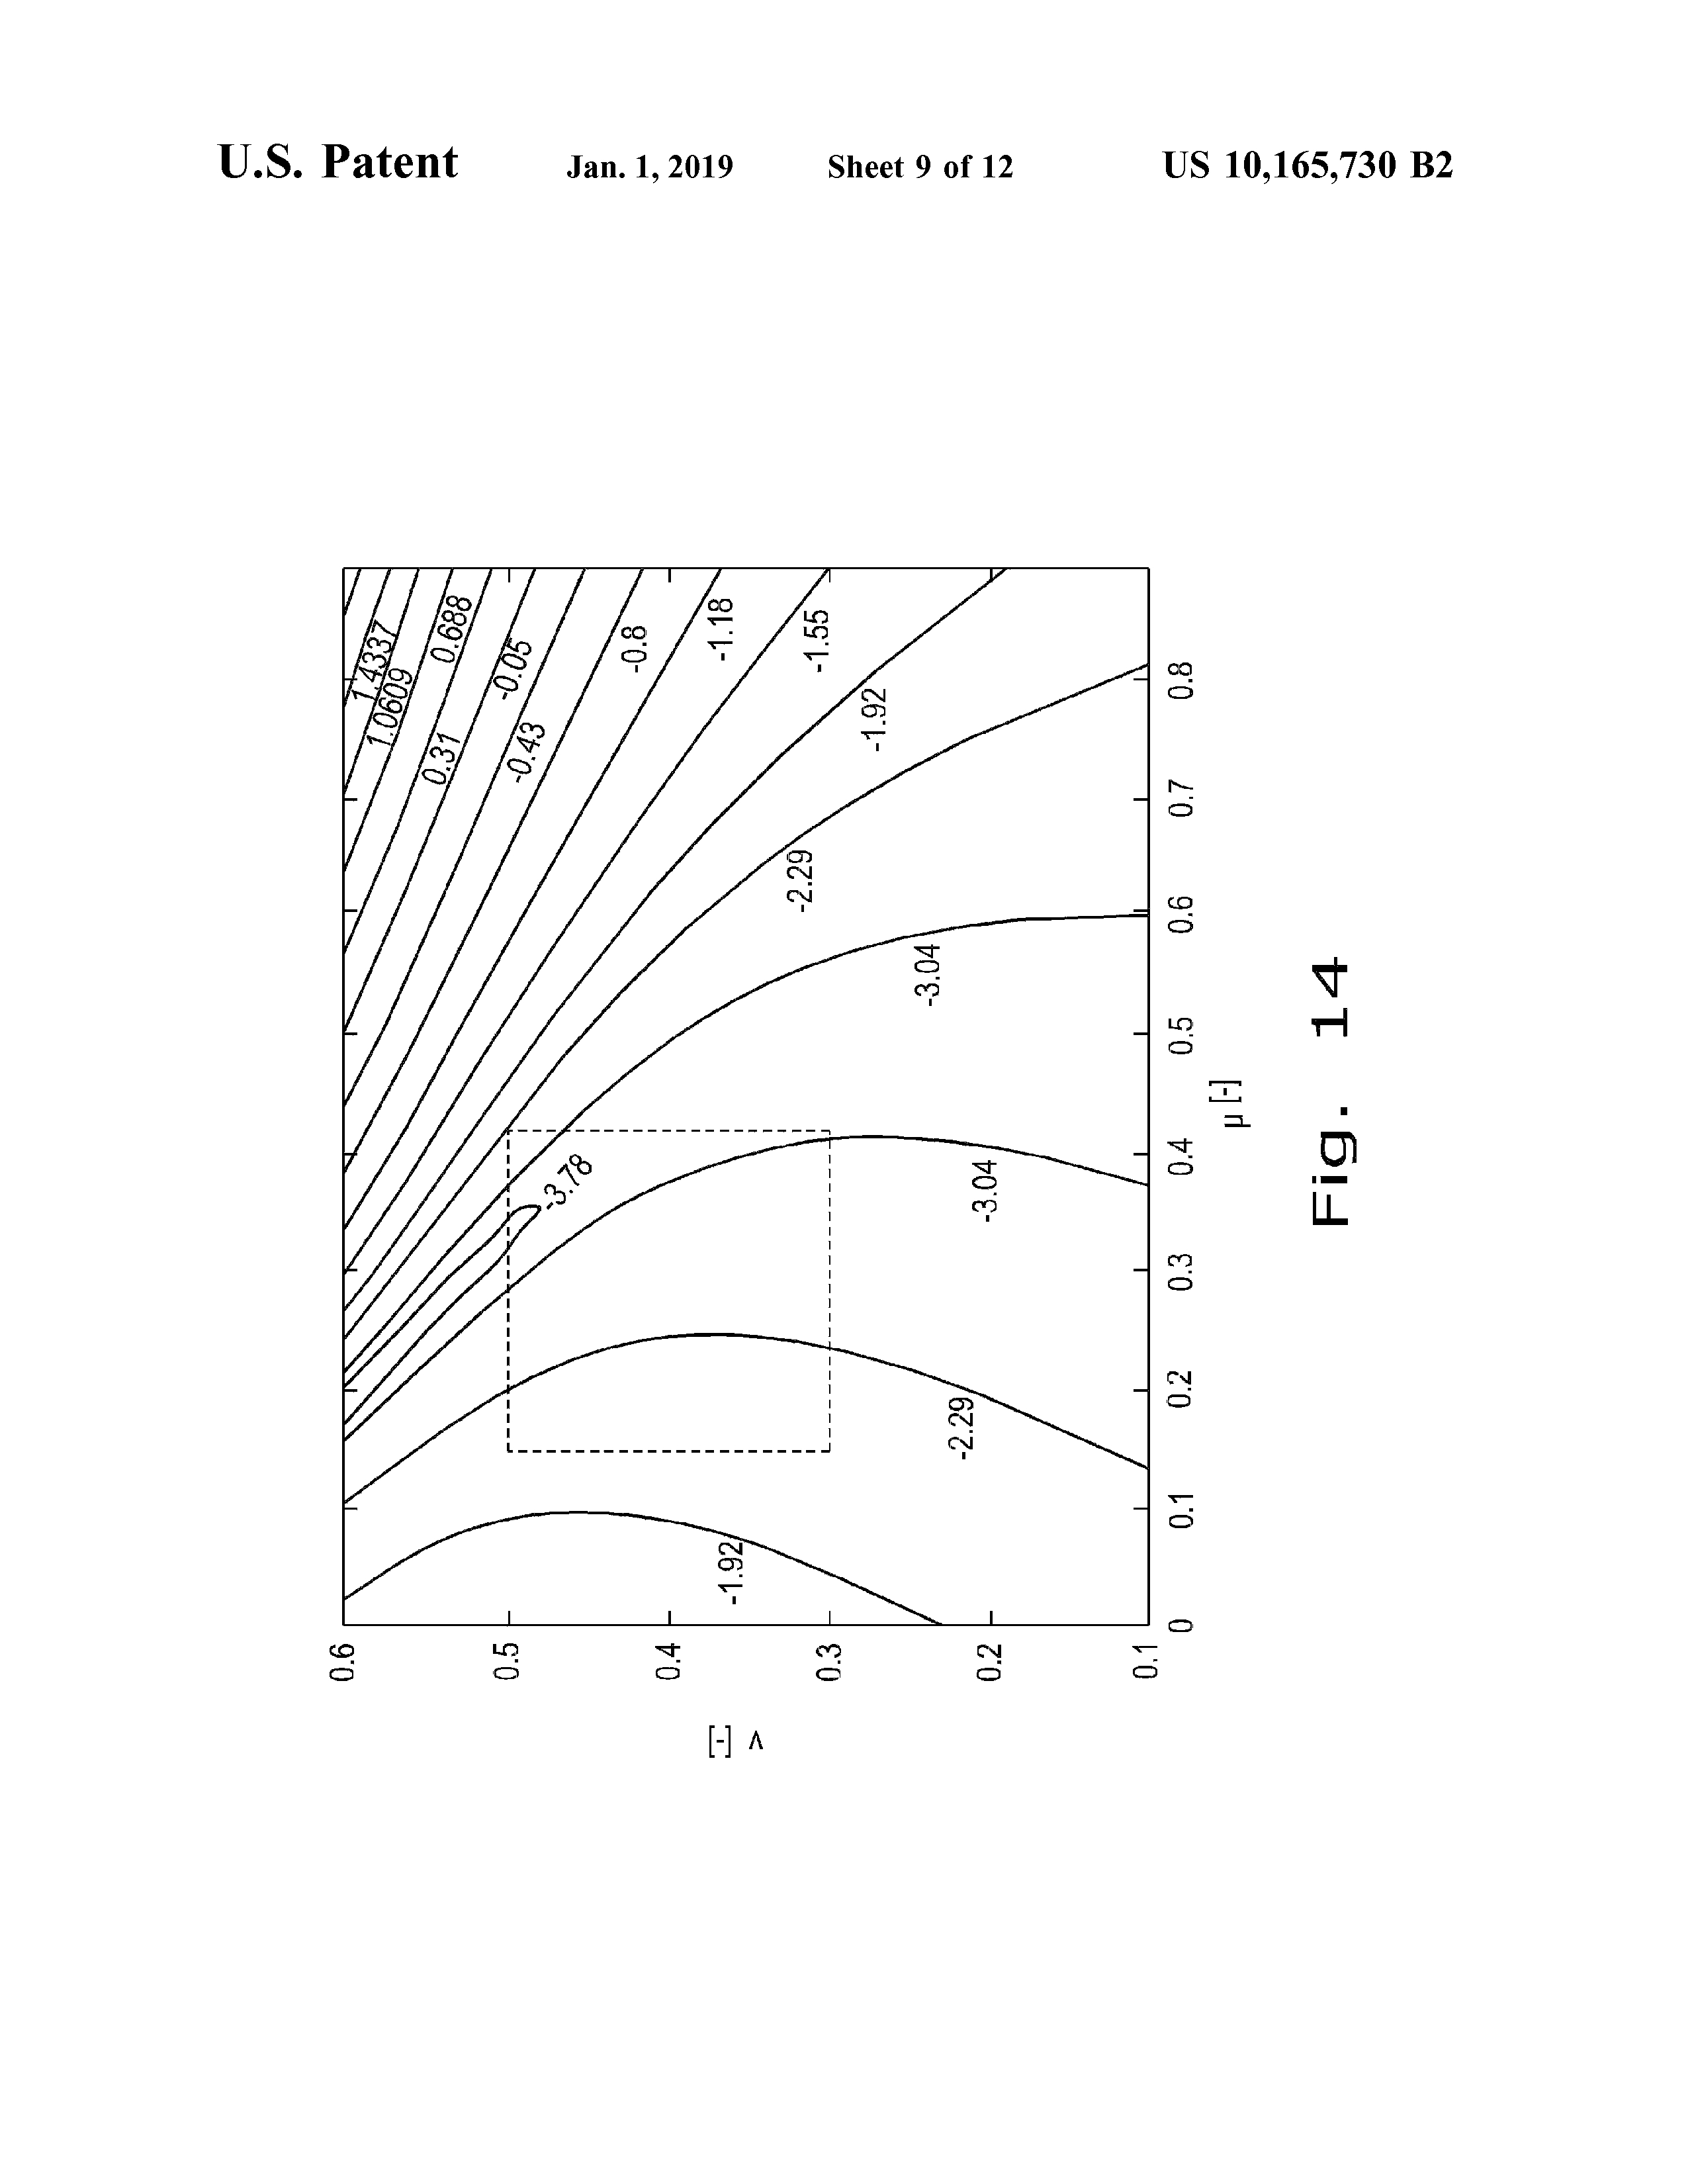patent image: (307, 486, 1395, 1819)
